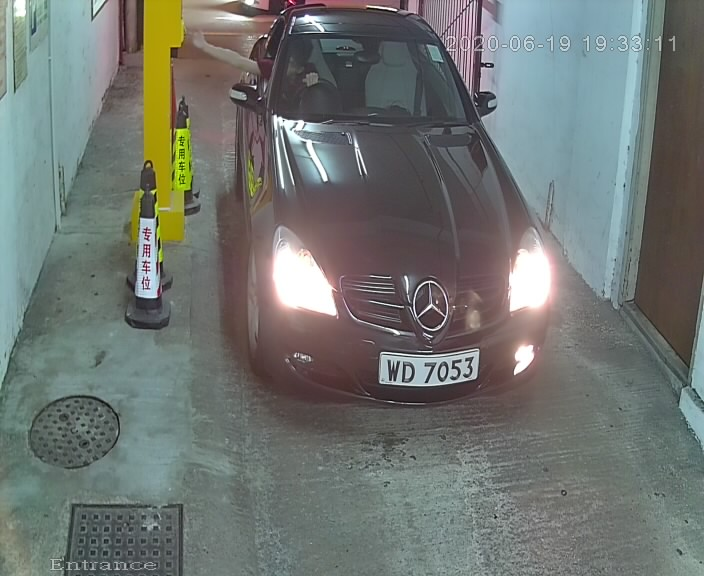privatecar: (213, 3, 561, 413)
